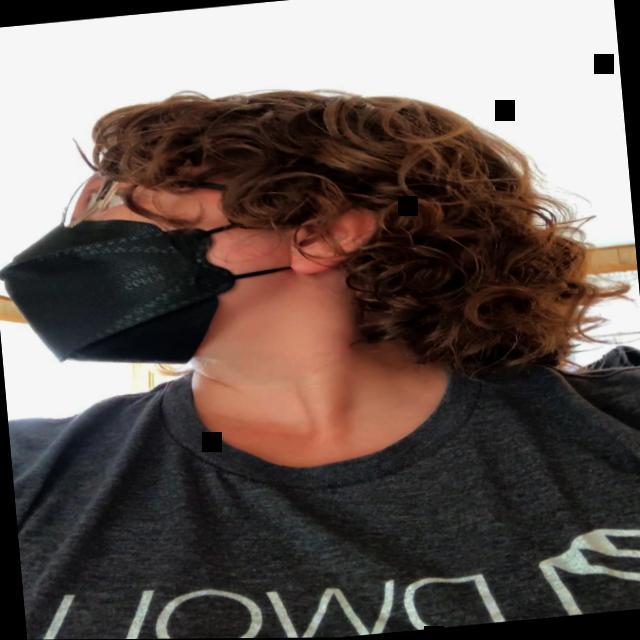Mask: (0, 145, 281, 378)
